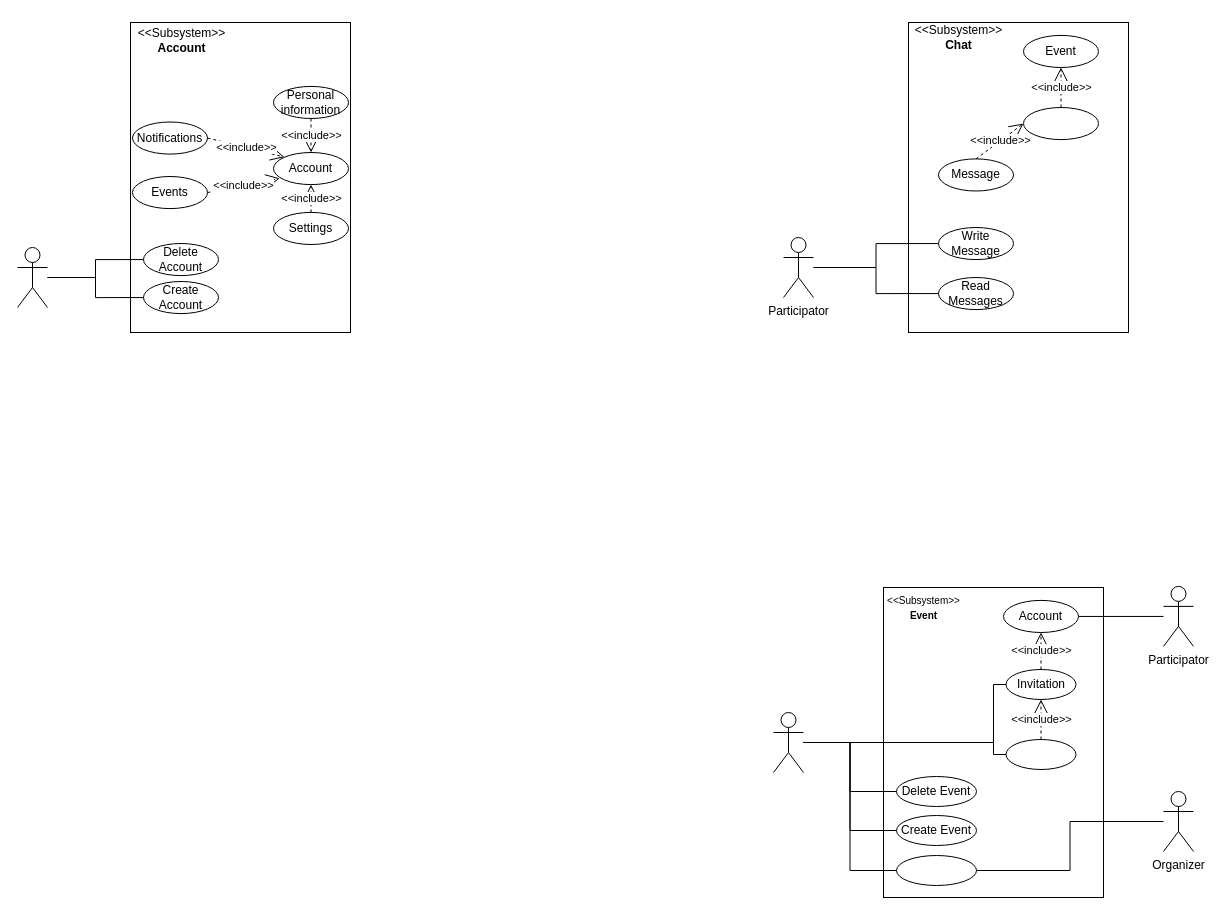
The diagram is 1226 pixels wide and 915 high, and some of its shapes have lost their labels. The centre of each missing label's shape, as x and y in pixels:
Assign role: point 1040,754
Chat: point 1060,123
Host: point 788,742
Modify Event: point 936,870
User: point 32,277
